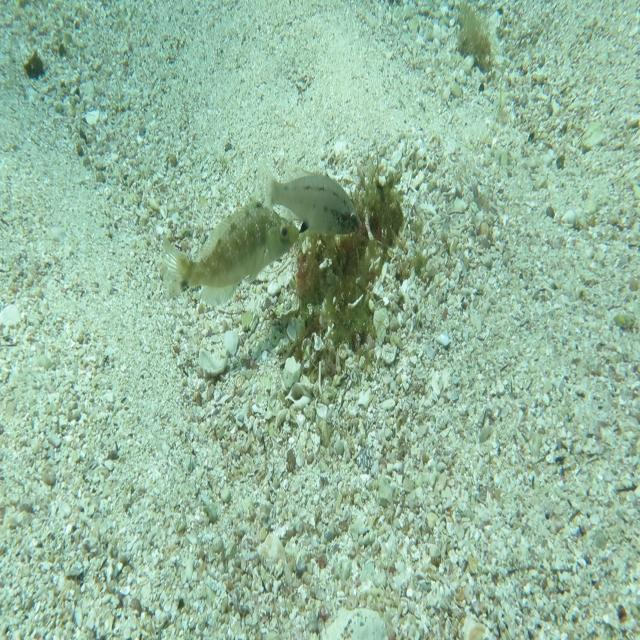GB: (158, 185, 302, 309)
core_nest: (339, 195, 398, 234)
female: (258, 154, 364, 239)
nest: (279, 155, 408, 391)
